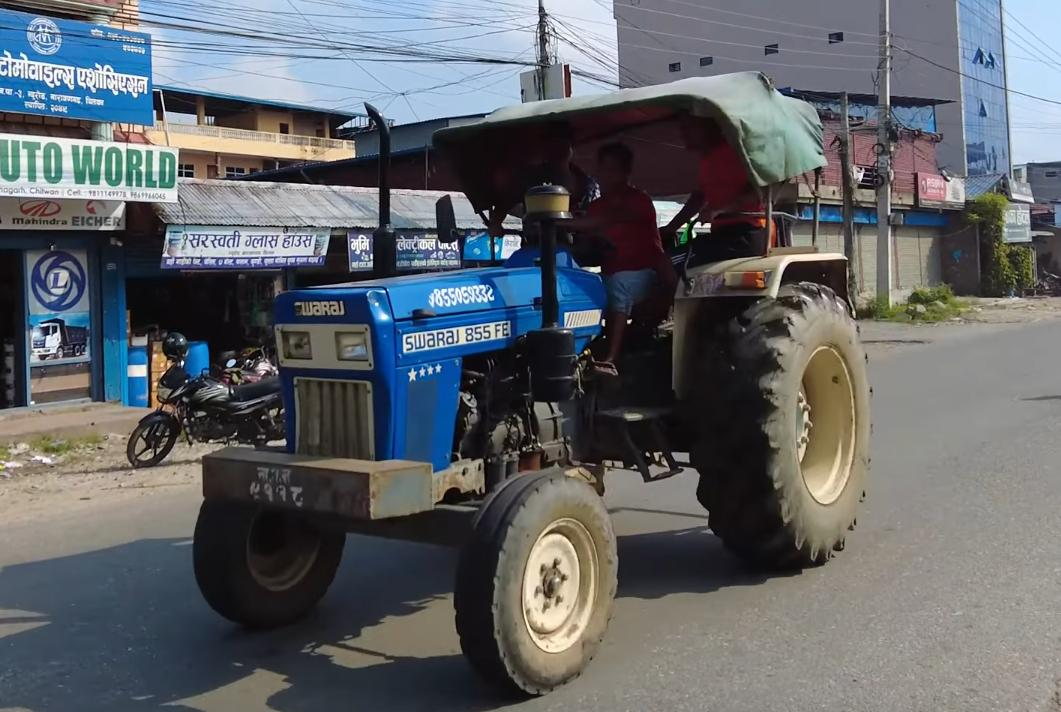bike: (125, 349, 298, 469)
tractor: (183, 66, 882, 712)
